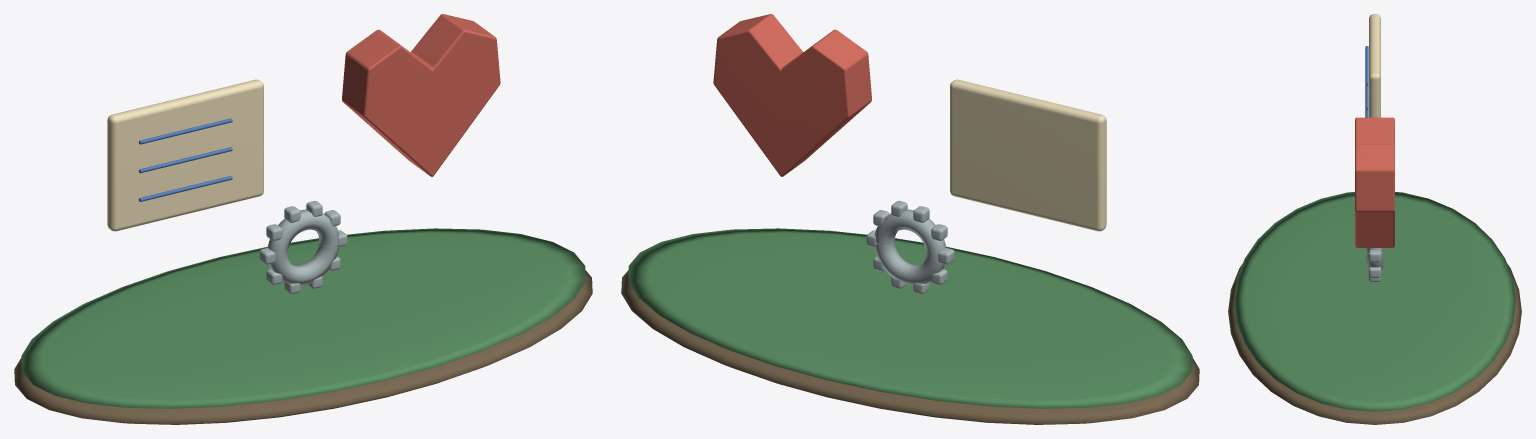
The model's file is complete-first-task-with-feeling.glb.
3 views of the same model, side by side, from view 1: azimuth 30°, elevation 25°; view 2: azimuth 150°, elevation 25°; view 3: azimuth 270°, elevation 25° (orthographic). The views are drawn at different scales.
Parts seen in each view (by area): view 1: complete-first-task-with-feeling_surface_01, complete-first-task-with-feeling_surface_02, complete-first-task-with-feeling_surface_04, complete-first-task-with-feeling_surface_00, complete-first-task-with-feeling_surface_05, complete-first-task-with-feeling_surface_03; view 2: complete-first-task-with-feeling_surface_01, complete-first-task-with-feeling_surface_02, complete-first-task-with-feeling_surface_04, complete-first-task-with-feeling_surface_00, complete-first-task-with-feeling_surface_05; view 3: complete-first-task-with-feeling_surface_01, complete-first-task-with-feeling_surface_04, complete-first-task-with-feeling_surface_00, complete-first-task-with-feeling_surface_02, complete-first-task-with-feeling_surface_05, complete-first-task-with-feeling_surface_03.
Boxes of the visible parts, x1,y1,x2,y2 form: complete-first-task-with-feeling_surface_01: (21,228,585,408); complete-first-task-with-feeling_surface_02: (107,79,263,231); complete-first-task-with-feeling_surface_04: (342,14,500,176); complete-first-task-with-feeling_surface_00: (14,270,592,424); complete-first-task-with-feeling_surface_05: (259,200,347,294); complete-first-task-with-feeling_surface_03: (138,118,232,201); complete-first-task-with-feeling_surface_01: (628,228,1192,408); complete-first-task-with-feeling_surface_02: (950,79,1106,231); complete-first-task-with-feeling_surface_04: (713,14,871,176); complete-first-task-with-feeling_surface_00: (621,270,1199,424); complete-first-task-with-feeling_surface_05: (866,200,954,294); complete-first-task-with-feeling_surface_01: (1234,192,1515,411); complete-first-task-with-feeling_surface_04: (1355,117,1394,247); complete-first-task-with-feeling_surface_00: (1228,264,1521,424); complete-first-task-with-feeling_surface_02: (1369,14,1380,117); complete-first-task-with-feeling_surface_05: (1366,248,1383,282); complete-first-task-with-feeling_surface_03: (1365,46,1368,117).
Bounding box in the file's own units: 4.56 × 2.28 × 2.5.
